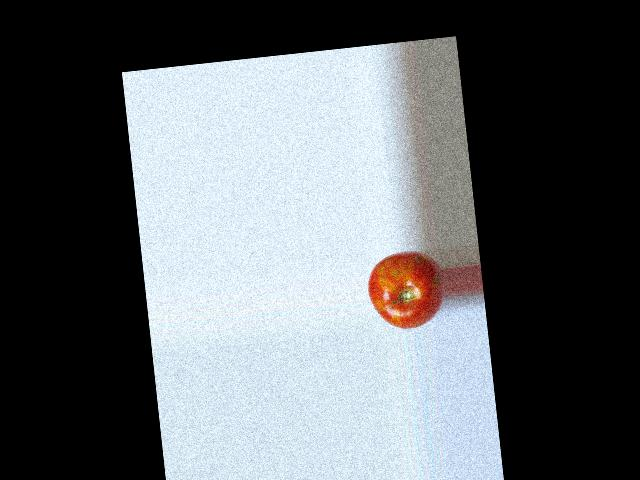tomato: (365, 248, 447, 332)
